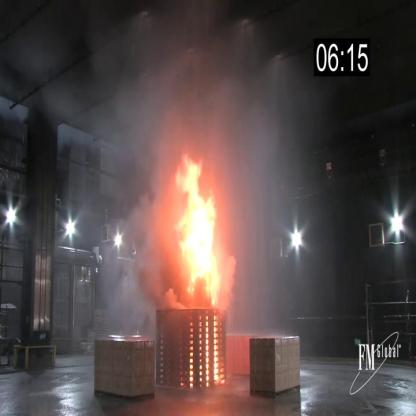fire: (172, 150, 224, 305)
